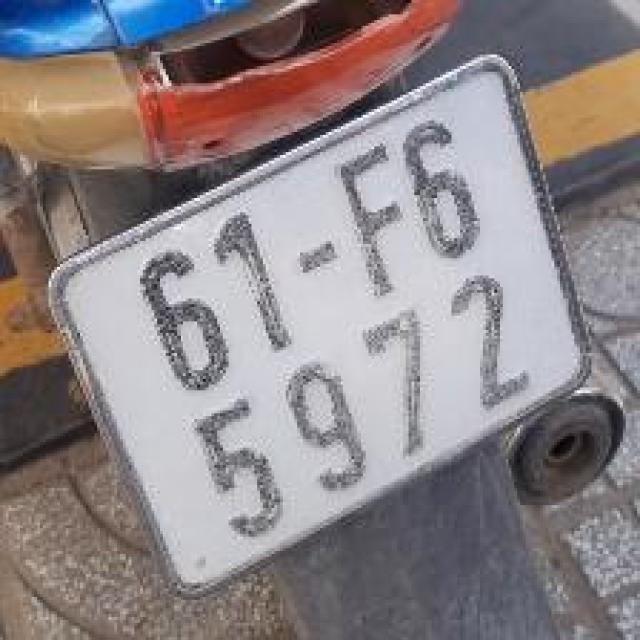1: (201, 197, 313, 366)
2: (435, 253, 552, 423)
5: (176, 387, 307, 552)
6: (118, 235, 250, 407), (388, 108, 500, 278)
7: (342, 300, 457, 468)
9: (263, 346, 388, 511)
F: (324, 129, 438, 307)
